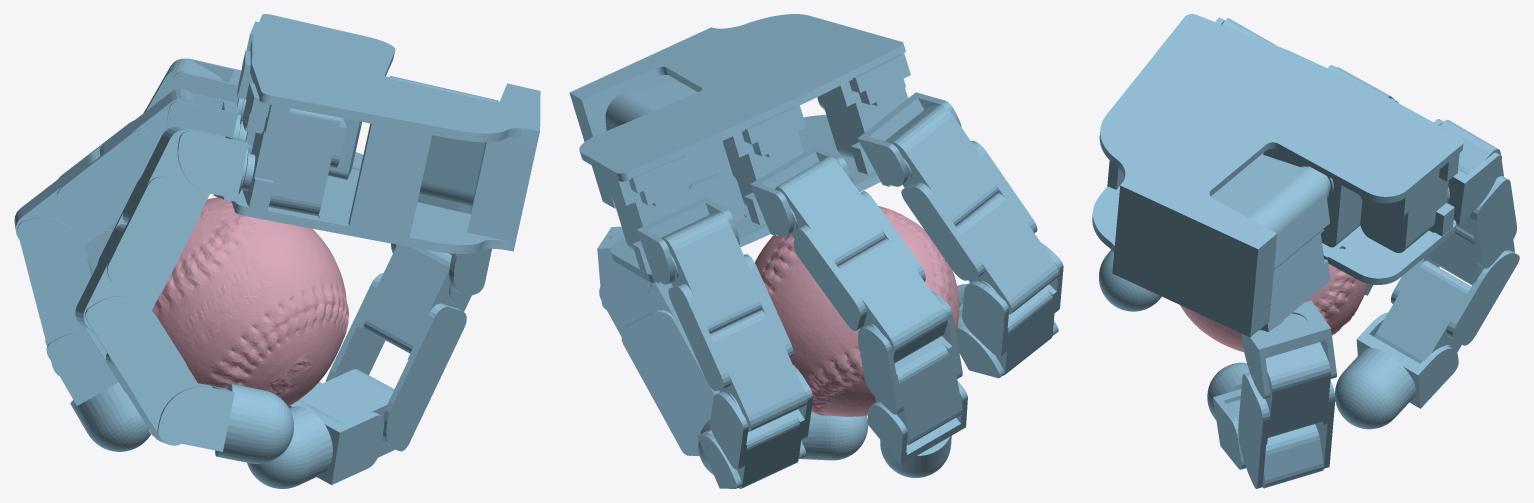
3 views of the same model, side by side, from view 1: azimuth 30°, elevation 25°; view 2: azimuth 150°, elevation 25°; view 3: azimuth 270°, elevation 25° (orthographic). The views are drawn at different scales.
Visible parts, largest first — view 1: world, baseball.stl; view 2: world, baseball.stl; view 3: world, baseball.stl.
Part boxes in pixels (<box>): world: <box>14,14,540,488</box>; baseball.stl: <box>152,197,348,406</box>; world: <box>569,14,1063,488</box>; baseball.stl: <box>755,206,959,416</box>; world: <box>1092,14,1519,488</box>; baseball.stl: <box>1180,264,1368,352</box>.
Bounding box in the file's own units: 0.1809 × 0.1516 × 0.1483.
